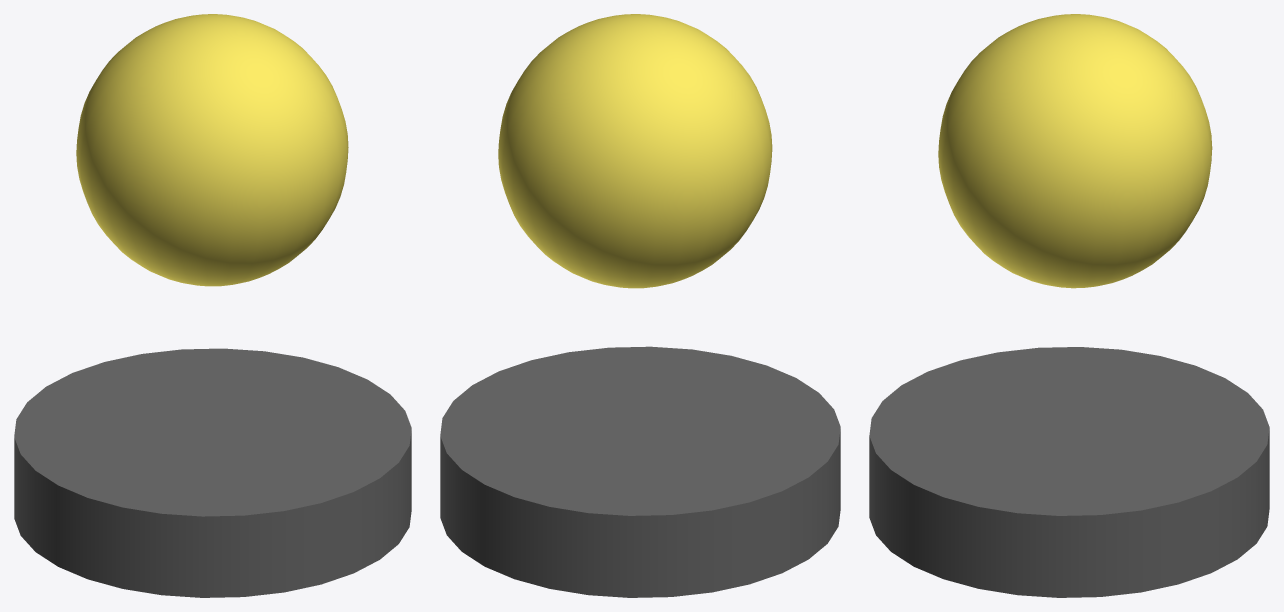
File: sphYellow.glb
The picture shows the model from 3 angles, left to right: view 1: azimuth 30°, elevation 25°; view 2: azimuth 150°, elevation 25°; view 3: azimuth 270°, elevation 25°; orthographic projection.
Parts seen in each view (by area): view 1: 029_Cylinder_-_baked_12, 028_Sphere_3; view 2: 029_Cylinder_-_baked_12, 028_Sphere_3; view 3: 029_Cylinder_-_baked_12, 028_Sphere_3.
Part boxes in pixels (bbox=[...]): 029_Cylinder_-_baked_12: bbox=[14, 348, 411, 597]; 028_Sphere_3: bbox=[76, 14, 348, 286]; 029_Cylinder_-_baked_12: bbox=[440, 346, 840, 597]; 028_Sphere_3: bbox=[498, 14, 772, 288]; 029_Cylinder_-_baked_12: bbox=[869, 347, 1269, 597]; 028_Sphere_3: bbox=[938, 14, 1212, 288].
Bounding box in the file's own units: 17.32 × 23.29 × 17.32.
